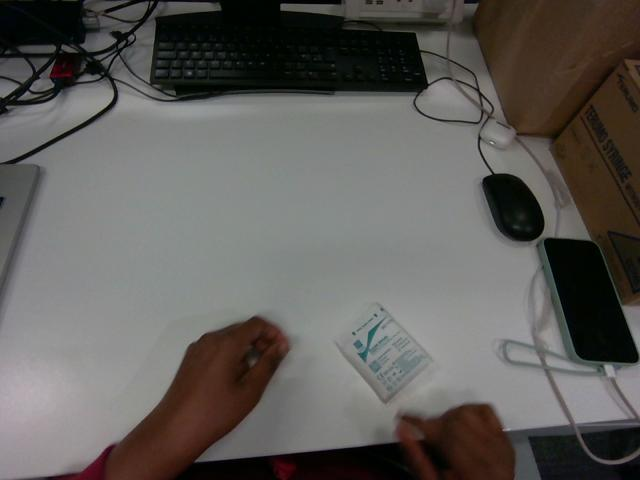gauze: (335, 303, 431, 402)
